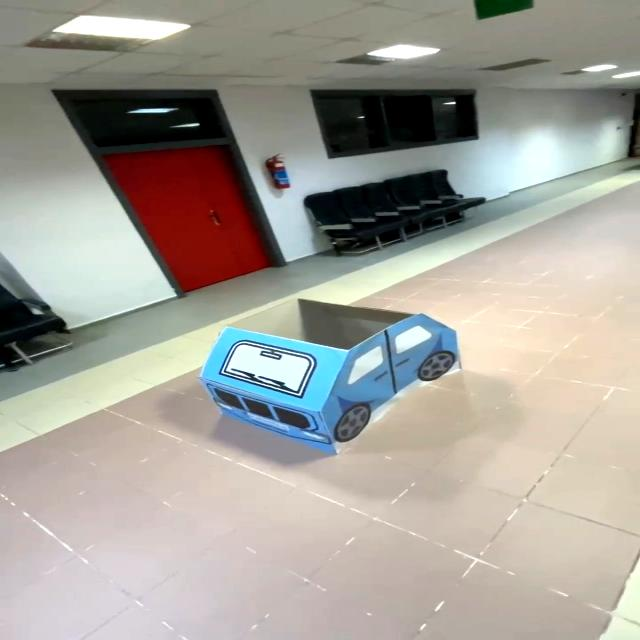blue_car: (176, 286, 501, 481)
